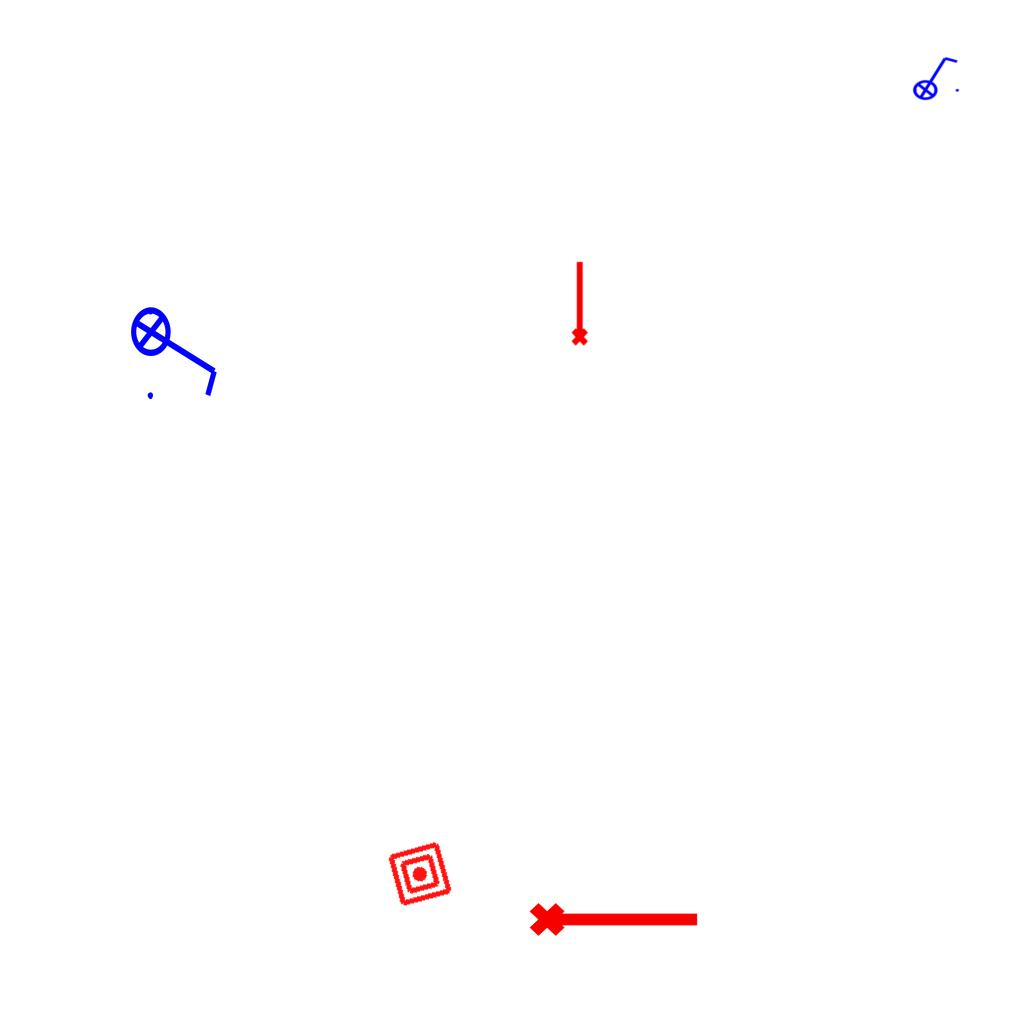ASR_Ansaugoeffnung: (527, 894, 703, 940), (567, 259, 590, 347)
Ausschalter_beleuchtet: (129, 293, 225, 405), (906, 53, 962, 101)
NAM-Nichtautomatischer_Melder: (385, 839, 455, 909)
